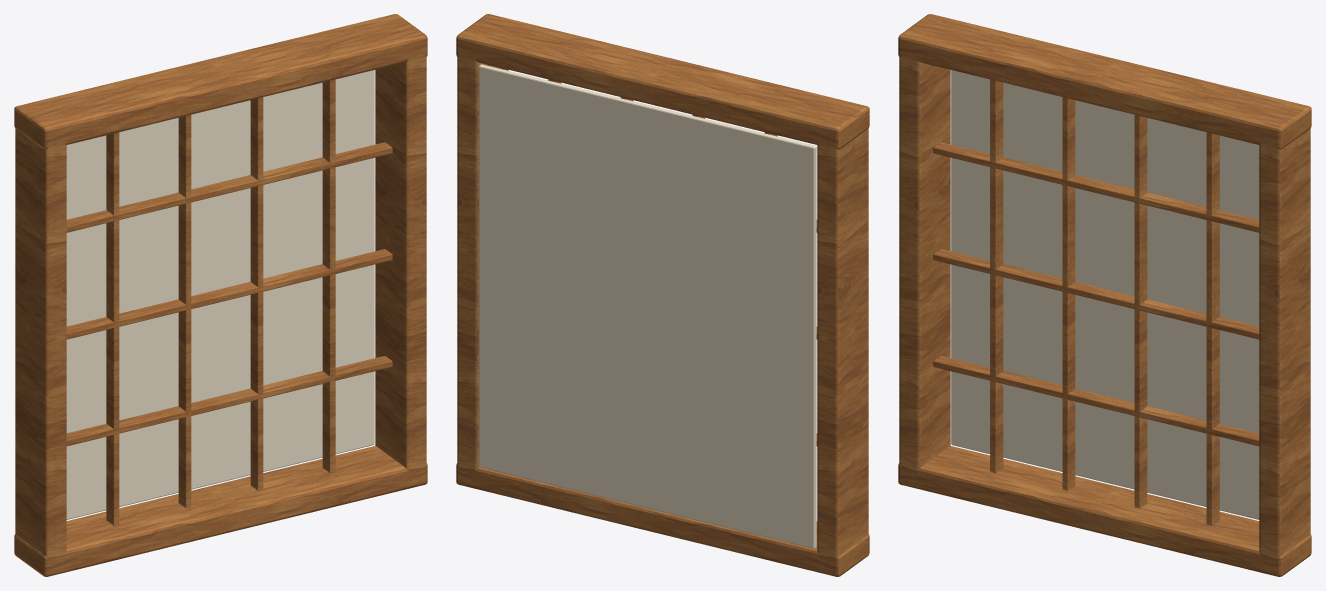
The model's file is WC_CAFE_Window_Recess_A.glb.
3 views of the same model, side by side, from view 1: azimuth 30°, elevation 25°; view 2: azimuth 150°, elevation 25°; view 3: azimuth 330°, elevation 25° (orthographic).
Parts seen in each view (by area): view 1: WC_CAFE_Window_Recess_A_RenderMesh; view 2: WC_CAFE_Window_Recess_A_RenderMesh; view 3: WC_CAFE_Window_Recess_A_RenderMesh.
Boxes of the visible parts, bbox=[...] form: WC_CAFE_Window_Recess_A_RenderMesh: bbox=[14, 14, 427, 576]; WC_CAFE_Window_Recess_A_RenderMesh: bbox=[456, 14, 869, 576]; WC_CAFE_Window_Recess_A_RenderMesh: bbox=[898, 14, 1311, 576].
Size of the model in its own units: 1.6 by 1.79 by 0.235.
3 materials, 2 textured.
